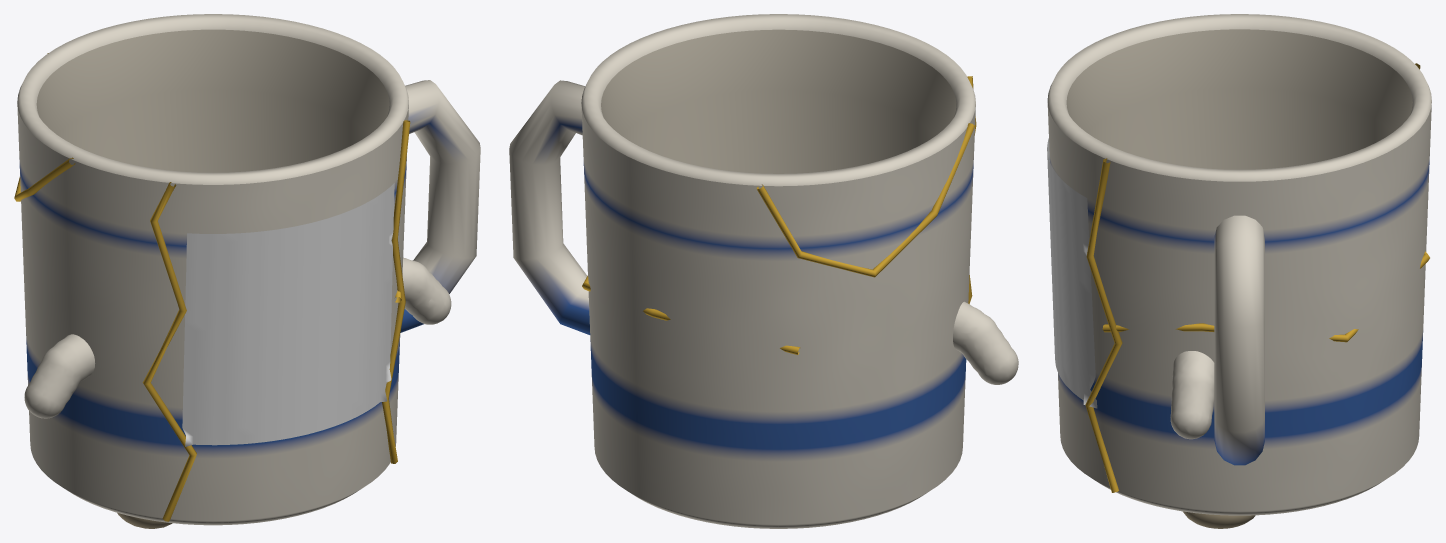
The model's file is folk2_mug.glb.
The picture shows the model from 3 angles, left to right: view 1: azimuth 30°, elevation 25°; view 2: azimuth 150°, elevation 25°; view 3: azimuth 270°, elevation 25°; orthographic projection. The views are drawn at different scales.
Visible parts, largest first — view 1: mug_body, mug_face, mug_arm_l, mug_arm_r; view 2: mug_body, mug_arm_l; view 3: mug_body, mug_face, mug_arm_r, mug_foot_r.
Part boxes in pixels (x1,y1,x2,y2): mug_body: (14, 14, 480, 525); mug_face: (182, 183, 394, 446); mug_arm_l: (24, 334, 95, 418); mug_arm_r: (402, 257, 451, 324); mug_body: (509, 14, 976, 528); mug_arm_l: (953, 301, 1018, 384); mug_body: (1047, 14, 1431, 515); mug_face: (1047, 138, 1097, 408); mug_arm_r: (1170, 351, 1214, 439); mug_foot_r: (1182, 511, 1255, 528).
Bounding box in the file's own units: 1.11 × 0.8977 × 0.7922.
